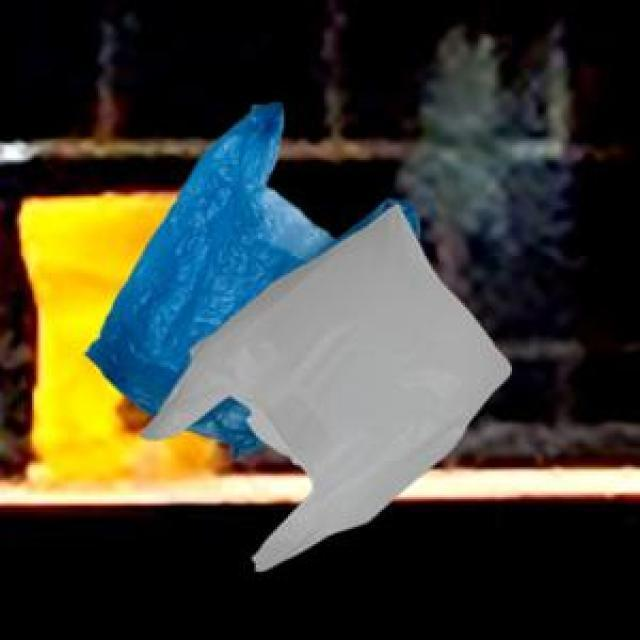waste: (88, 104, 510, 571), (144, 206, 510, 571), (88, 104, 334, 413), (21, 192, 224, 482)
